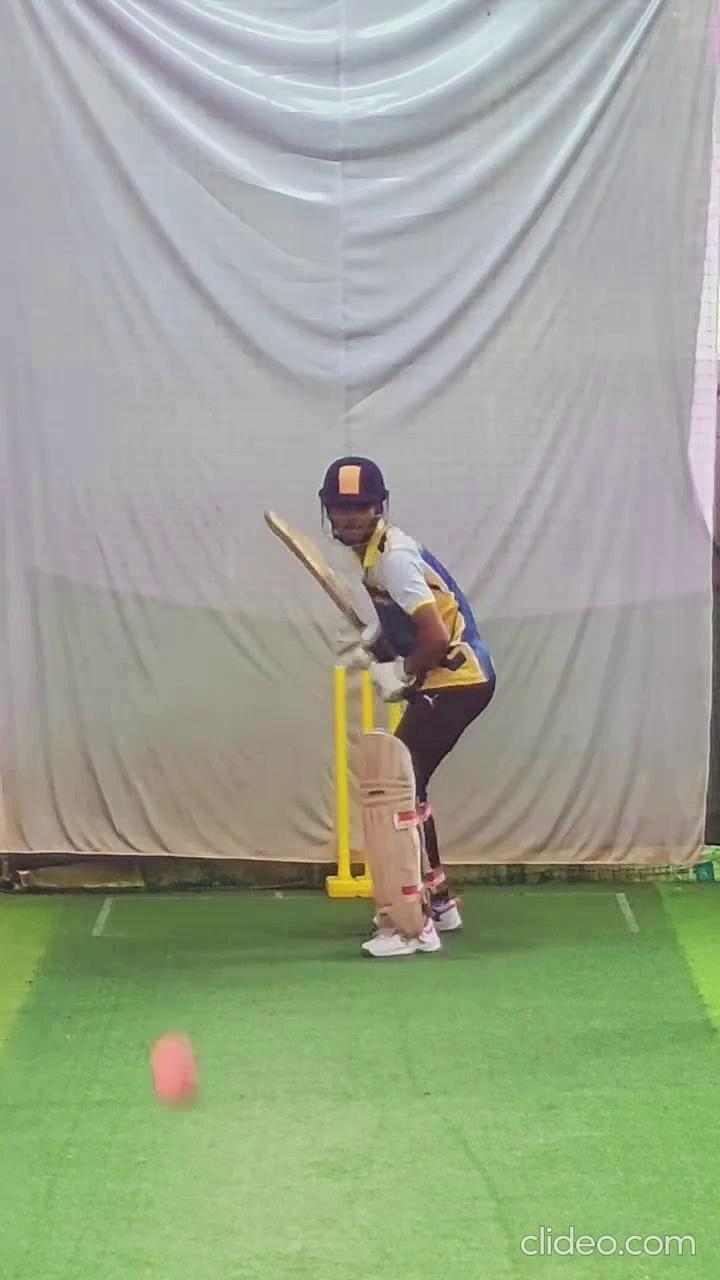bat: (256, 491, 386, 632)
